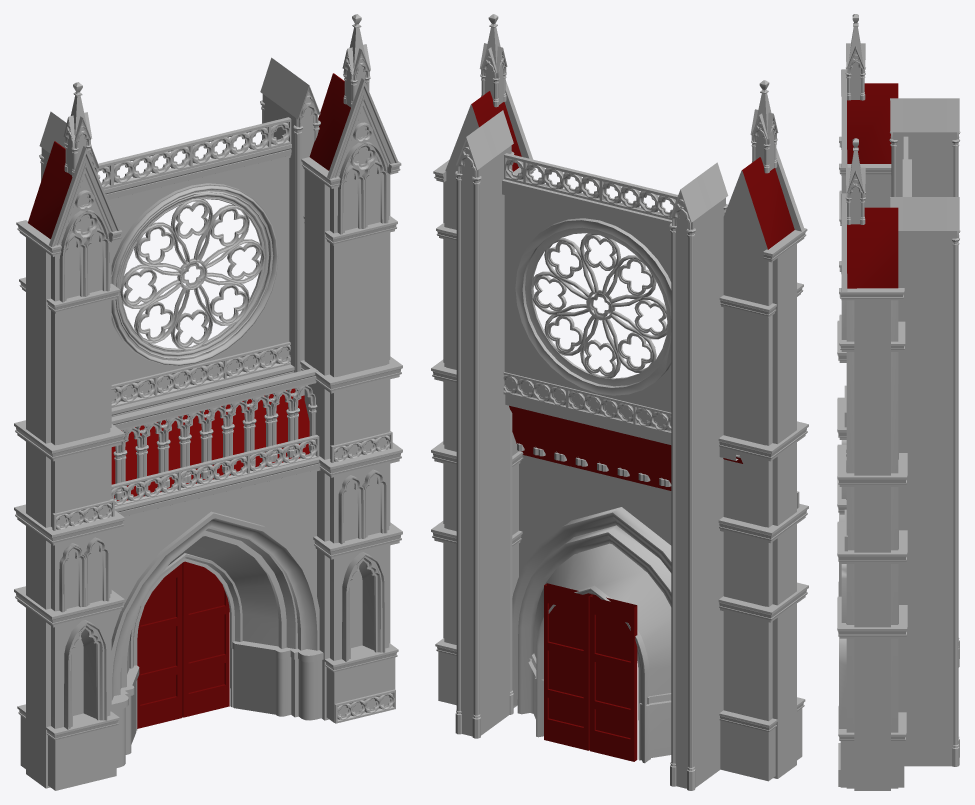
Rendered from entrance_001.glb.
3 renders of one model, left to right at view 1: azimuth 30°, elevation 25°; view 2: azimuth 150°, elevation 25°; view 3: azimuth 270°, elevation 25°, orthographic. The views are drawn at different scales.
Visible parts, largest first — view 1: entrance_001; view 2: entrance_001; view 3: entrance_001.
Boxes of the visible parts, box(x1,y1,x2,y2) form: entrance_001: box(14, 14, 402, 790); entrance_001: box(431, 14, 808, 790); entrance_001: box(837, 14, 960, 790).
Bounding box in the file's own units: 4.05 × 7.69 × 1.35.
